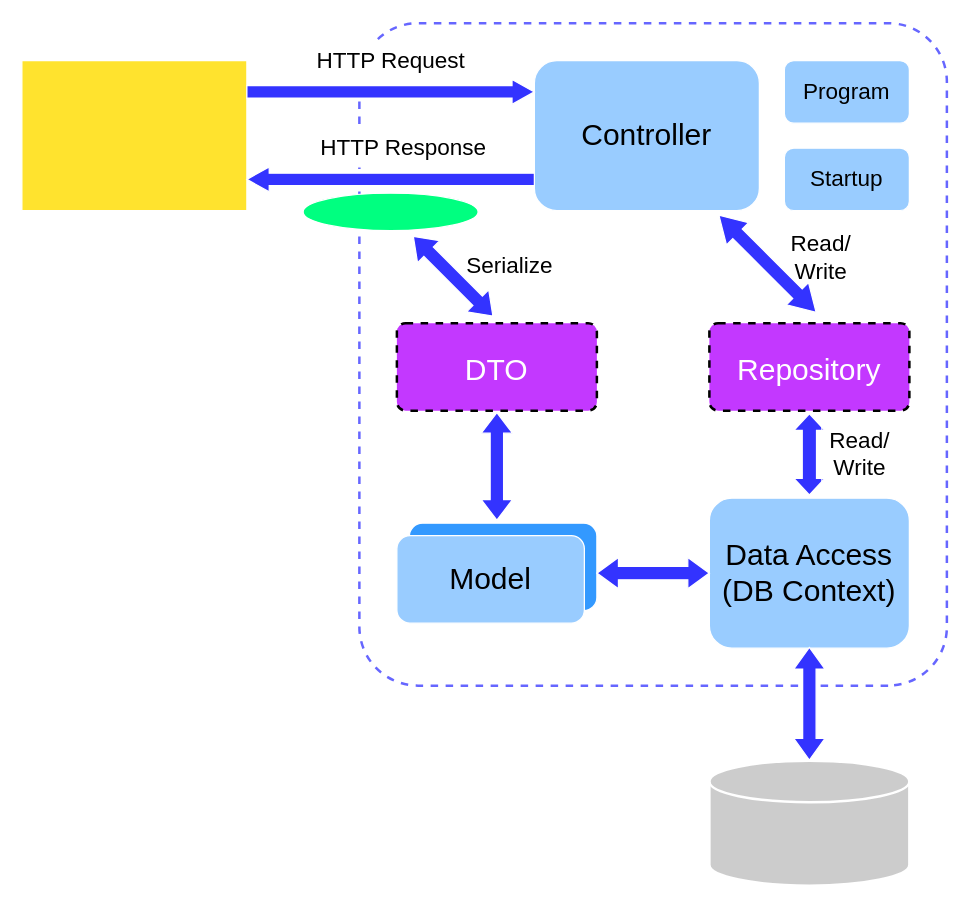
Image size: 970x908. Some labels were removed from this diagram. The box of each missing label's shape, as (x1, y1, x2, y2) in pixels:
API Client (e. g. Postman): (21, 59, 247, 211)
JSON: (302, 192, 478, 231)
Mapped: (502, 446, 603, 485)
SQL Server DB: (708, 759, 910, 886)
